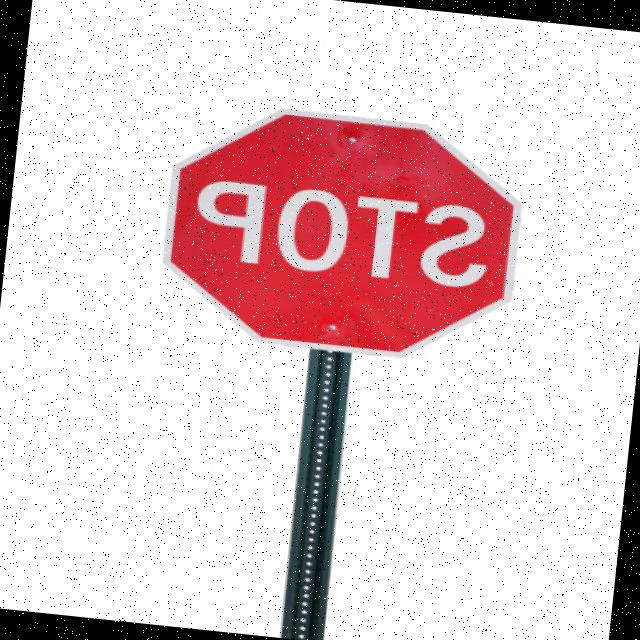stop: (140, 90, 528, 376)
